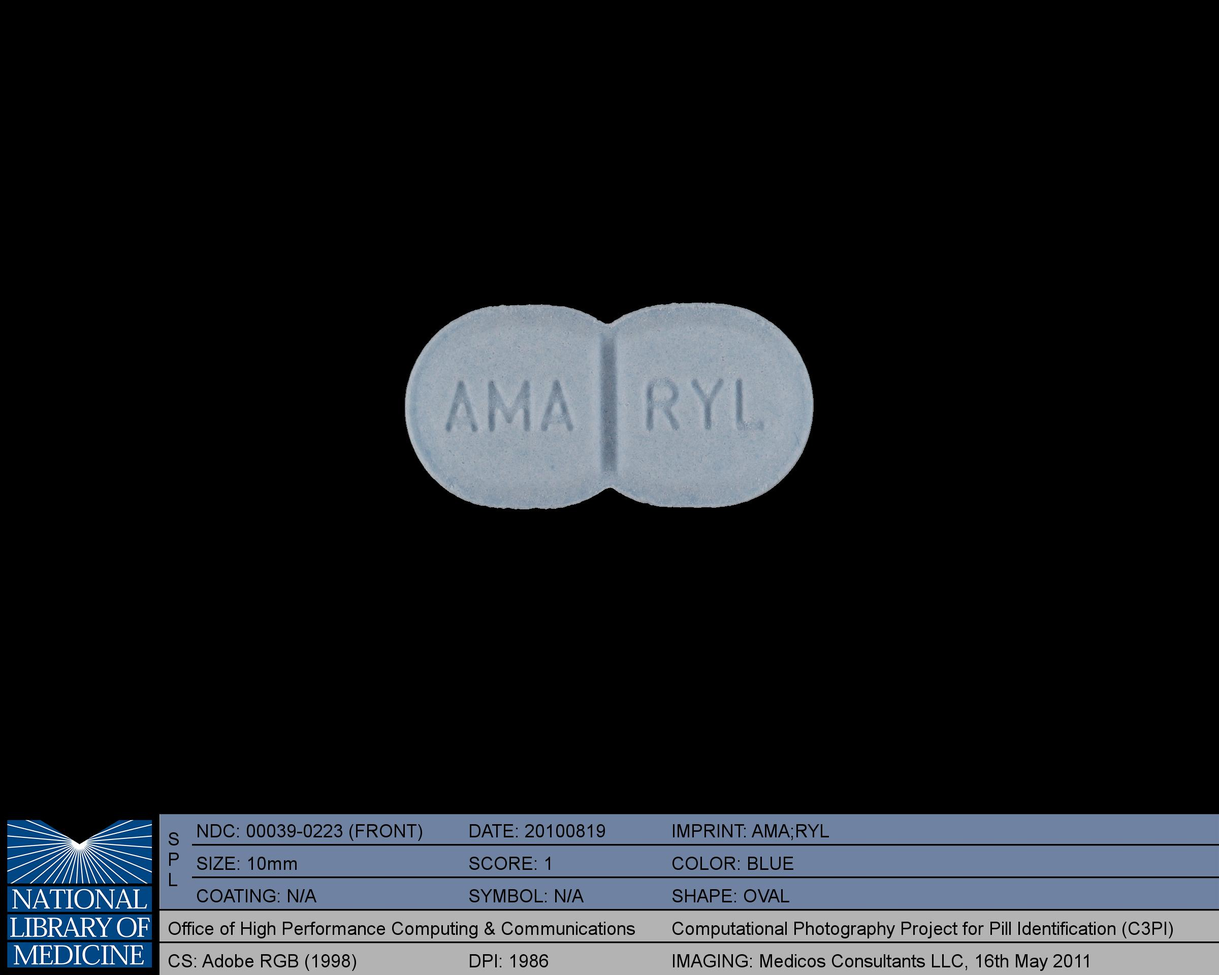Pill: (383, 295, 831, 529)
